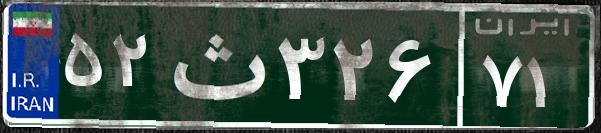1: (525, 38, 570, 115)
2: (330, 28, 385, 110), (110, 28, 158, 105)
3: (273, 28, 330, 110)
5: (57, 26, 110, 107)
6: (385, 28, 445, 110)
7: (475, 38, 525, 113)
ث: (158, 15, 273, 115)
